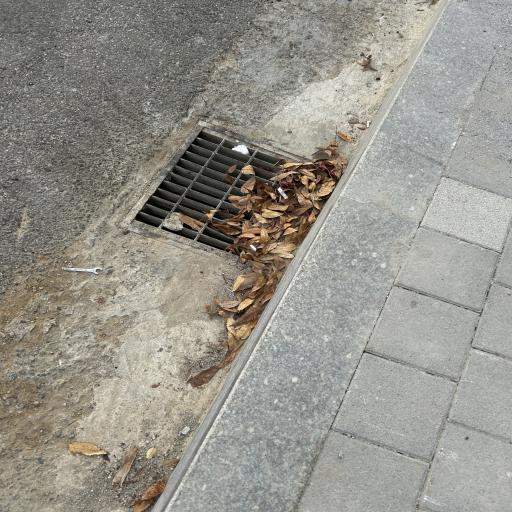debris: (229, 159, 328, 268), (167, 212, 202, 229), (240, 176, 255, 192), (224, 163, 236, 183), (224, 215, 239, 228), (203, 209, 217, 220), (240, 164, 254, 175), (223, 229, 238, 234), (152, 228, 163, 233), (268, 192, 275, 199), (264, 184, 271, 190), (318, 162, 324, 169)
drain: (130, 125, 336, 270)
